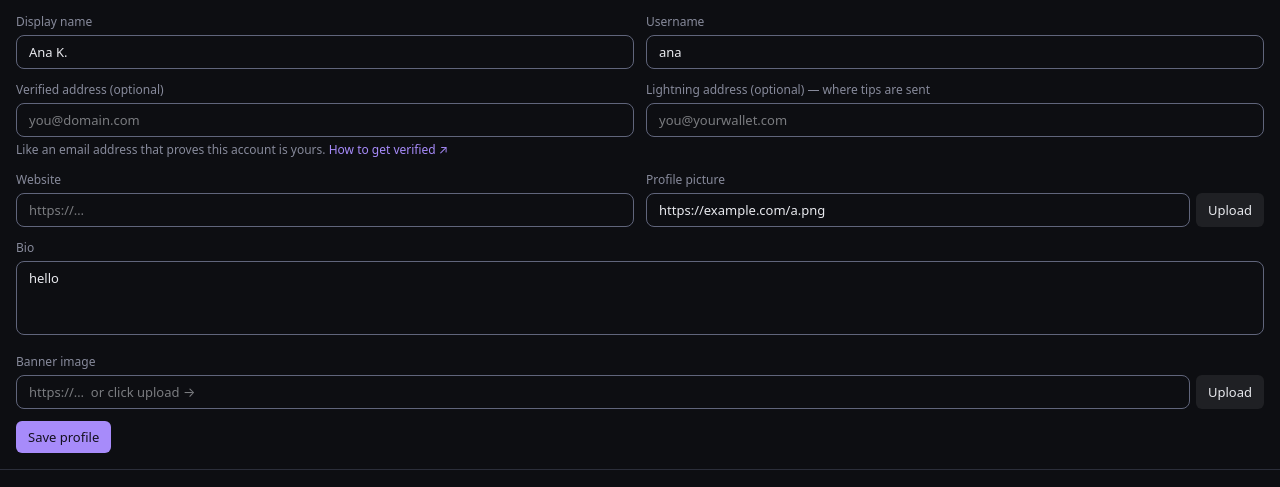
Scenario: EditProfileForm › says Saved, then closes
Click the button "Save profile": (64, 437) [16,421,111,453]
Wait 1000 ms
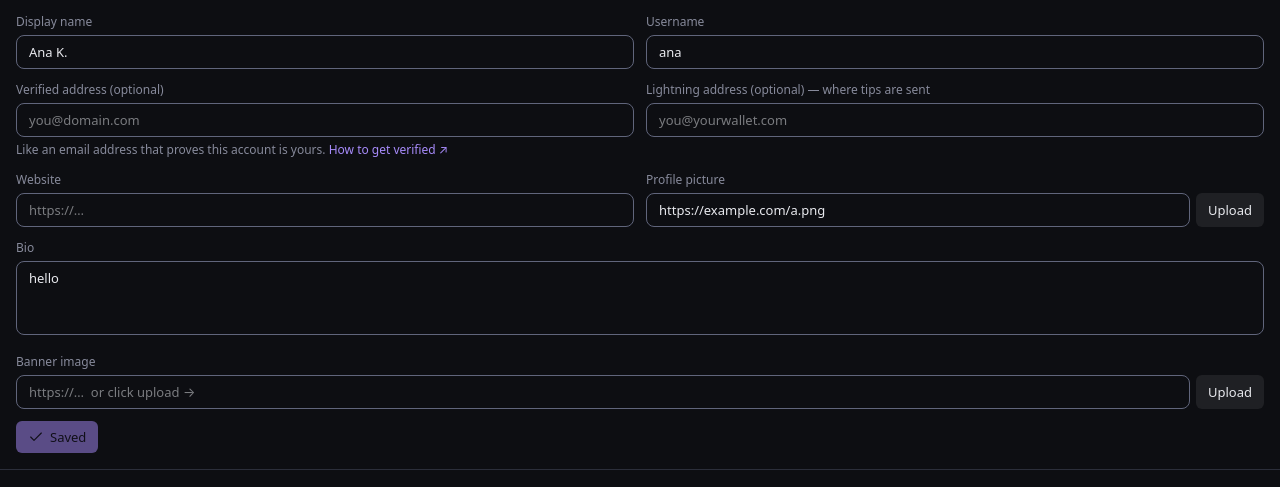
Result: the button "Saved" is shown at [16,421,98,453]
